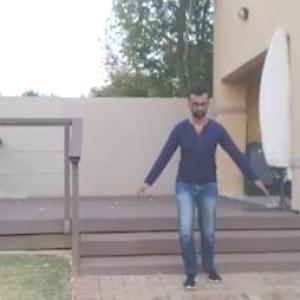land: (146, 85, 270, 291)
